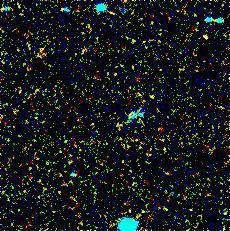star: (192, 24, 222, 54)
